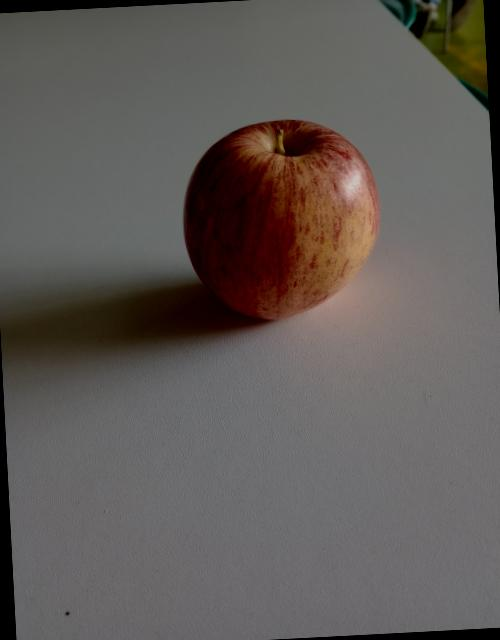Manzana: (144, 71, 436, 365)
